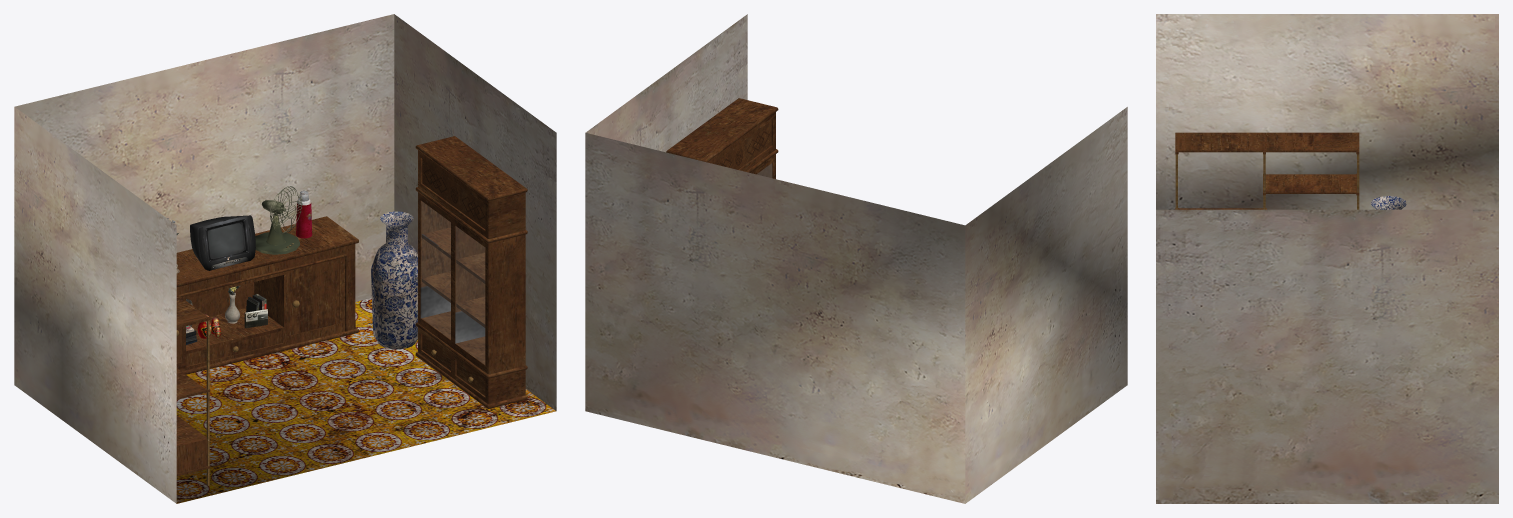
File: Vietnam props.fbx
3 renders of one model, left to right at view 1: azimuth 30°, elevation 25°; view 2: azimuth 150°, elevation 25°; view 3: azimuth 270°, elevation 25°, orthographic. The views are drawn at different scales.
Parts seen in each view (by area): view 1: ExteriorWall1.002, ExteriorWall1.007, shelf 3.001, shelf 1.001, glass.001, vase.002, shelf 2.001, tv.001, prop1.001, prop3.001, prop6.001; view 2: ExteriorWall1.002, shelf 3.001; view 3: ExteriorWall1.002, shelf 2.001, vase.001.
Part boxes in pixels (left/top/right/bottom): ExteriorWall1.002: left=14, top=14, right=556, bottom=503; ExteriorWall1.007: left=176, top=298, right=555, bottom=503; shelf 3.001: left=415, top=136, right=527, bottom=408; shelf 1.001: left=176, top=216, right=358, bottom=374; glass.001: left=421, top=201, right=484, bottom=363; vase.002: left=371, top=211, right=417, bottom=349; shelf 2.001: left=176, top=294, right=210, bottom=485; tv.001: left=190, top=215, right=255, bottom=270; prop1.001: left=255, top=186, right=312, bottom=254; prop3.001: left=197, top=285, right=240, bottom=338; prop6.001: left=244, top=294, right=267, bottom=328; ExteriorWall1.002: left=585, top=14, right=1127, bottom=503; shelf 3.001: left=666, top=98, right=778, bottom=178; ExteriorWall1.002: left=1156, top=14, right=1498, bottom=503; shelf 2.001: left=1175, top=132, right=1359, bottom=209; vase.001: left=1371, top=196, right=1406, bottom=209.
Bounding box in the file's own units: 1191 × 834 × 881.
Materials: 5 (4 with a texture image).
